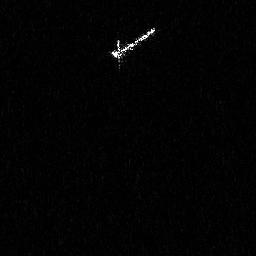ship: (108, 23, 157, 71)
